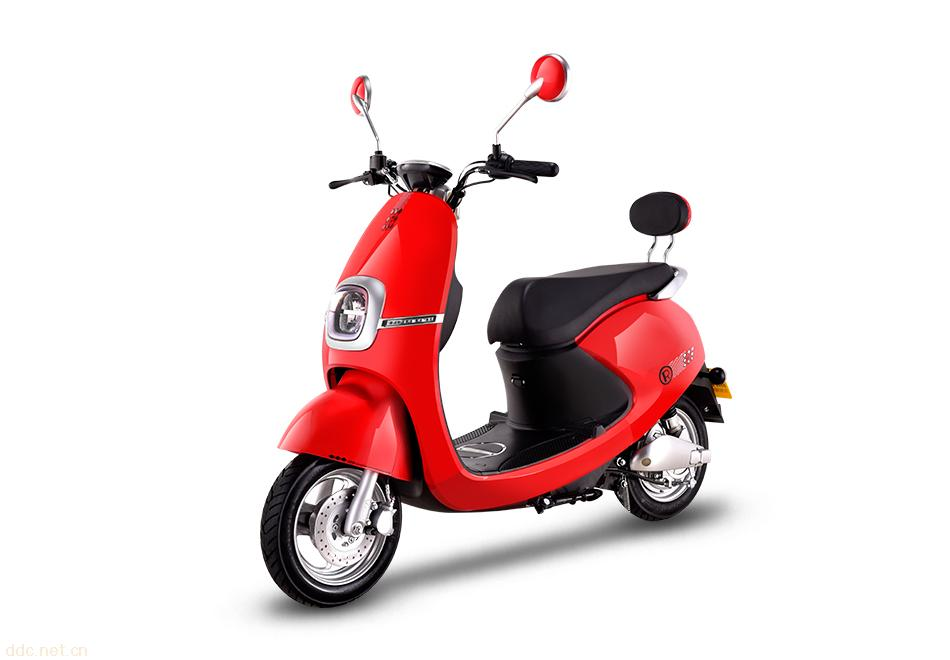MNV: (260, 53, 725, 606)
